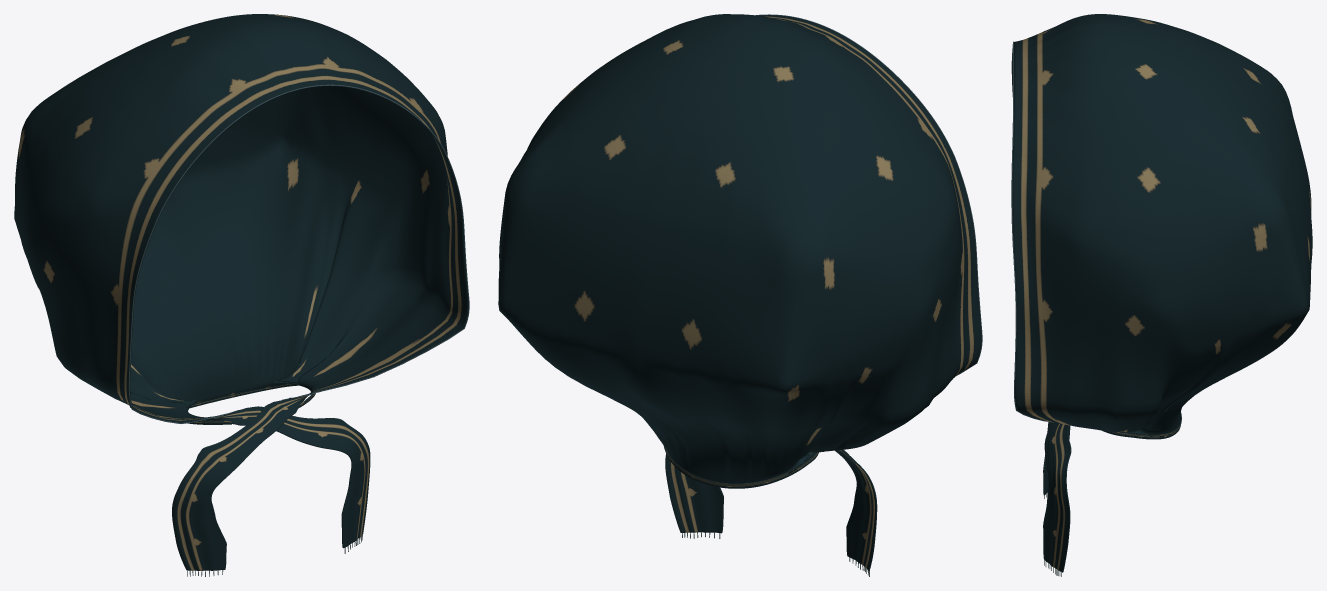
Rendered from Masculine-flow-tshirt-pashmina249-headgear.glb.
3 renders of one model, left to right at view 1: azimuth 30°, elevation 25°; view 2: azimuth 150°, elevation 25°; view 3: azimuth 270°, elevation 25°, orthographic. The views are drawn at different scales.
Parts seen in each view (by area): view 1: 226 headgear / Headwear / continuous woven pashmina239, 226 headgear / Headwear / face edge239; view 2: 226 headgear / Headwear / continuous woven pashmina239, 226 headgear / Headwear / face edge239; view 3: 226 headgear / Headwear / continuous woven pashmina239, 226 headgear / Headwear / face edge239.
Boxes of the visible parts, x1=… form: 226 headgear / Headwear / continuous woven pashmina239: x1=14, y1=14, x2=468, y2=570; 226 headgear / Headwear / face edge239: x1=128, y1=84, x2=469, y2=423; 226 headgear / Headwear / continuous woven pashmina239: x1=498, y1=14, x2=981, y2=570; 226 headgear / Headwear / face edge239: x1=756, y1=14, x2=982, y2=375; 226 headgear / Headwear / continuous woven pashmina239: x1=1012, y1=14, x2=1312, y2=572; 226 headgear / Headwear / face edge239: x1=1011, y1=41, x2=1047, y2=421.
Bounding box in the file's own units: 1.12 × 1.44 × 0.7747.
Materials: 3 (1 with a texture image).
